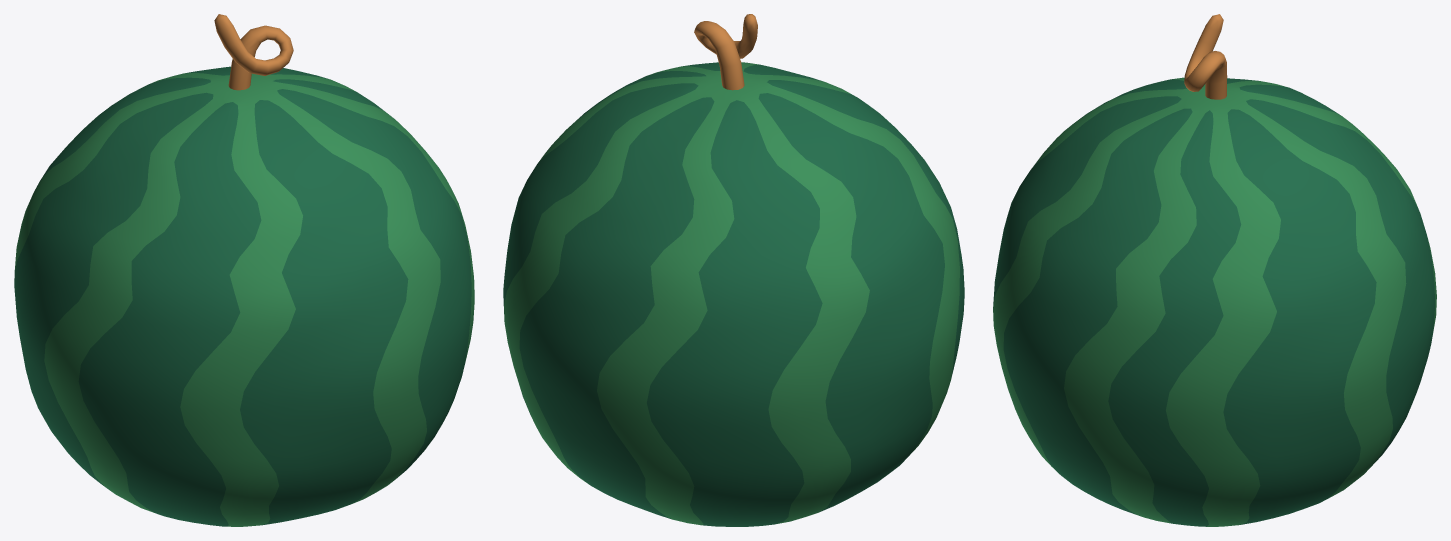
The model's file is Watermelon_02.dae.
3 views of the same model, side by side, from view 1: azimuth 30°, elevation 25°; view 2: azimuth 150°, elevation 25°; view 3: azimuth 270°, elevation 25° (orthographic). The views are drawn at different scales.
Parts seen in each view (by area): view 1: Watermelon_02_LOD0; view 2: Watermelon_02_LOD0; view 3: Watermelon_02_LOD0.
Boxes of the visible parts, <box> form: Watermelon_02_LOD0: <box>14,14,474,526</box>; Watermelon_02_LOD0: <box>503,14,964,526</box>; Watermelon_02_LOD0: <box>993,14,1436,526</box>.
Size of what is drawn, in the model's own units: 5.66 by 5.61 by 6.66.
